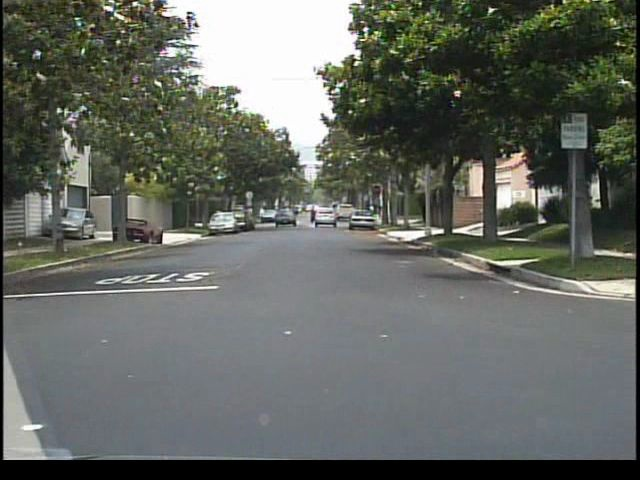person: (214, 205, 227, 228)
